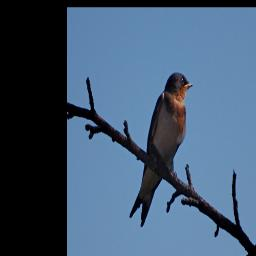Swallow: (129, 72, 193, 228)
